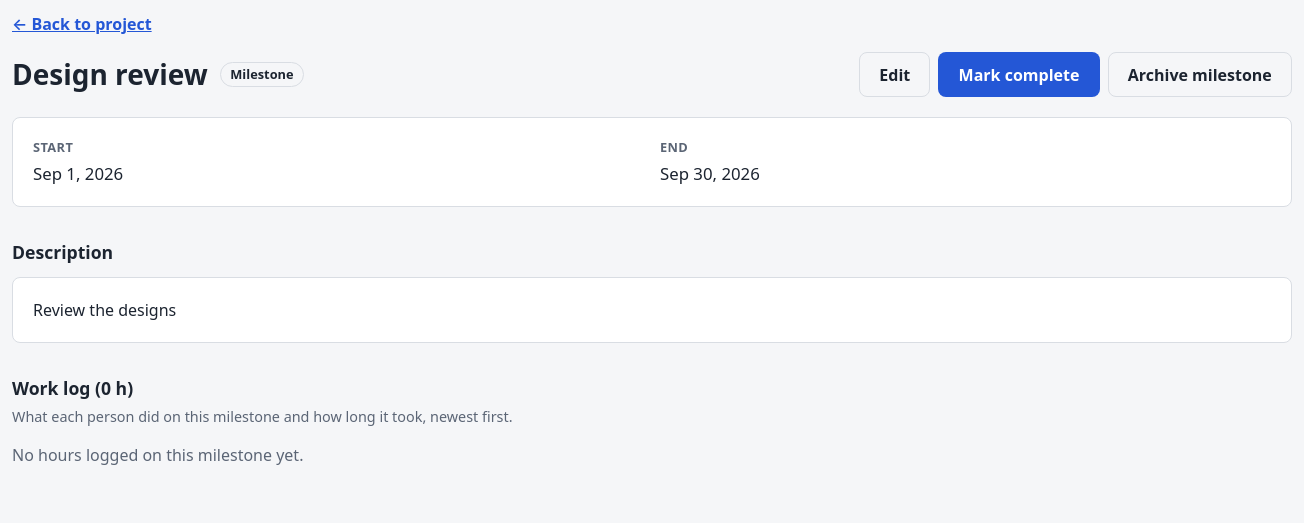
Test case: MilestonePage actions › shows an error when archiving fails
Click the button "Archive milestone". click: (1200, 75)
box: [1108, 52, 1292, 97]
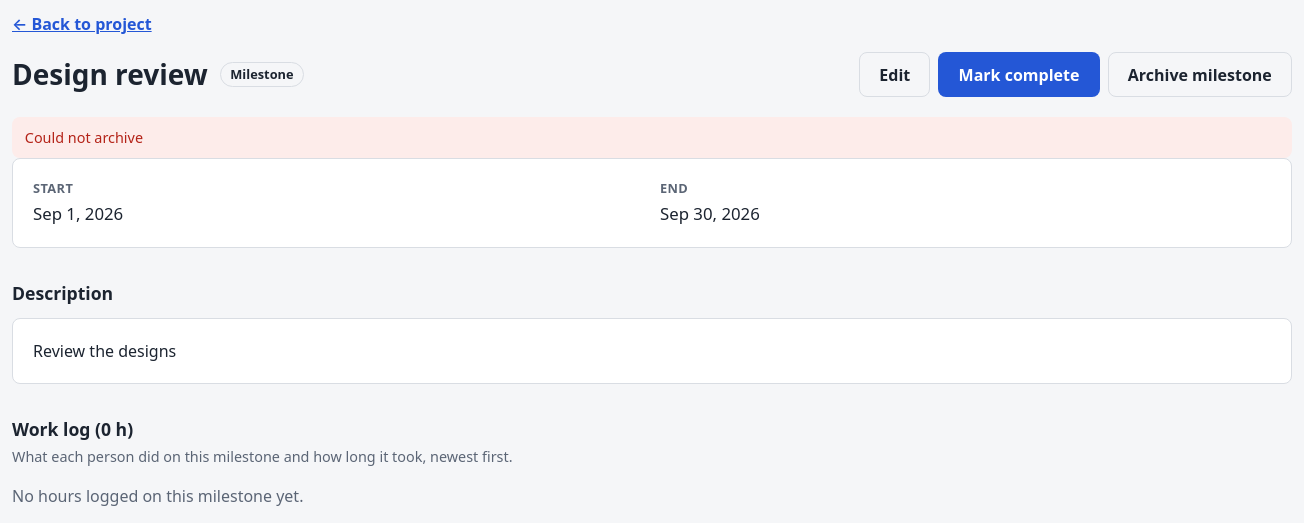
Expected: the message reads "Could not archive", [25, 128, 143, 147]
